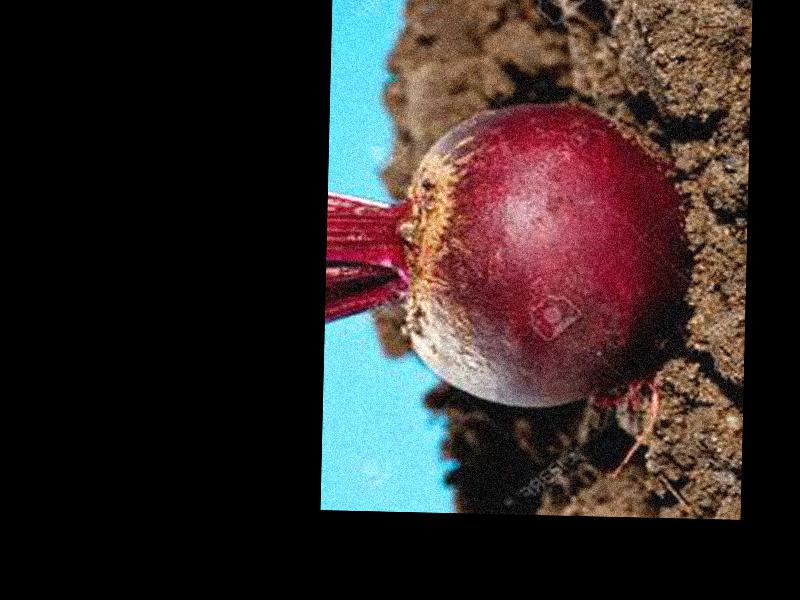Beet: (325, 99, 688, 412)
